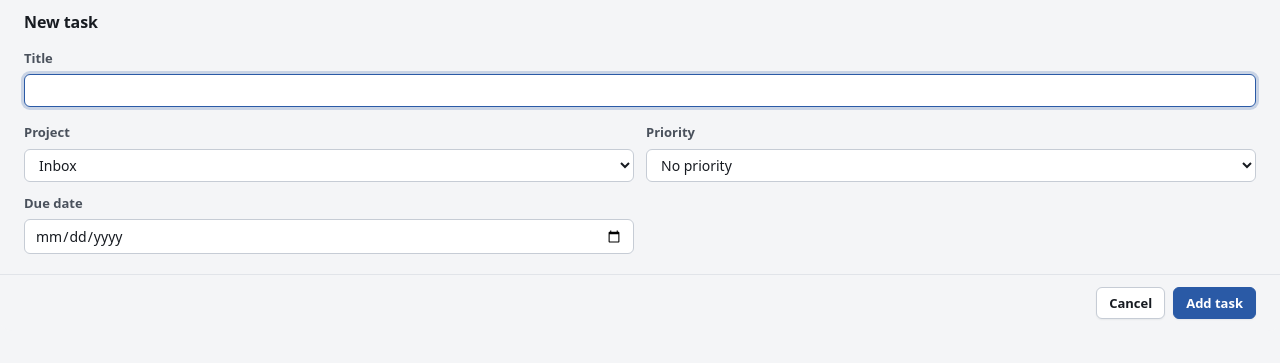
Scenario: QuickAddForm › shows the backend error message
Type "X" into the field labelled "Title" at (640, 91), box [24,74,1256,107]
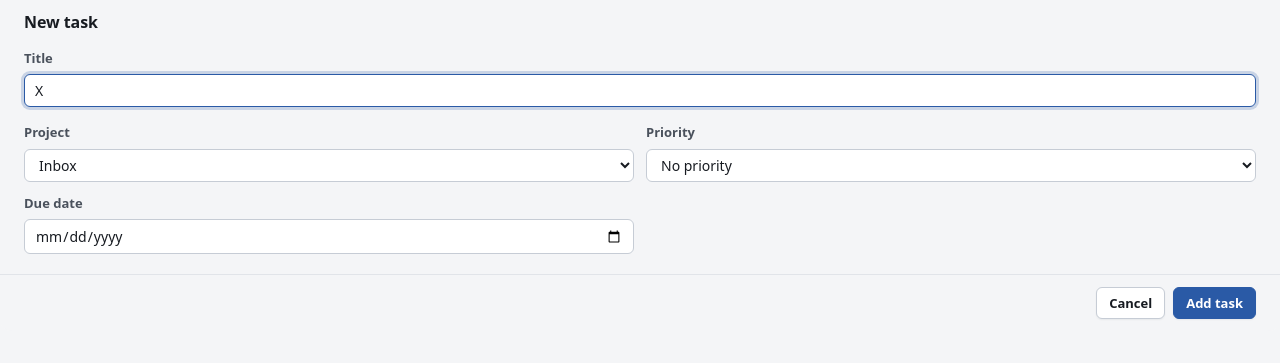
Click the button "Add task" at (1215, 303), box [1173,287,1256,319]
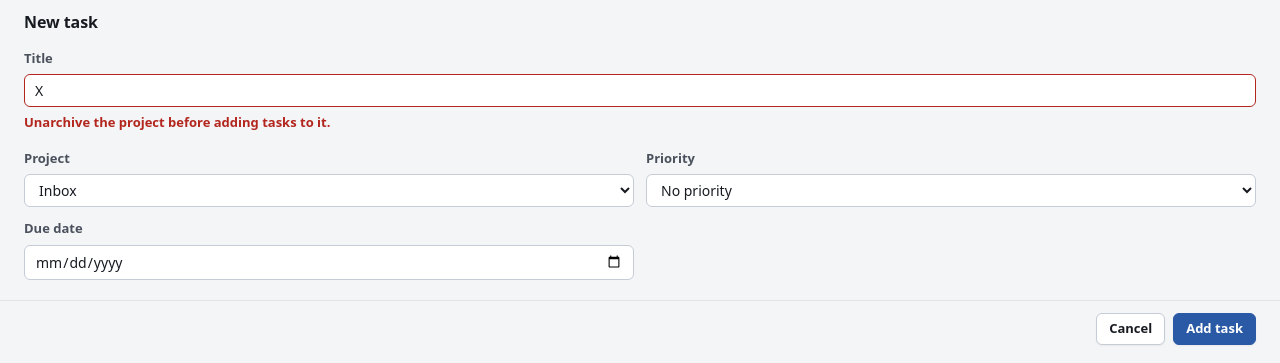
Expected: the message shows "Unarchive the project", [24,113,330,131]
